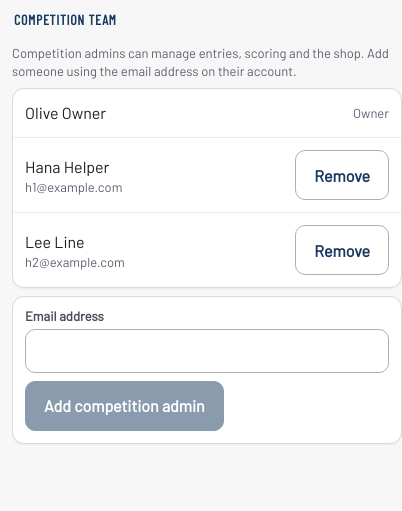
Test case: CompetitionTeamCard › shows the message when no account has that email
This screenshot has width=402, height=511.
Expected: the text "Hana Helper" is shown, x1=25 y1=155 x2=122 y2=179
Type "nobody@example.com" into the field labelled "Email address" at (207, 351), box x1=25 y1=329 x2=389 y2=373
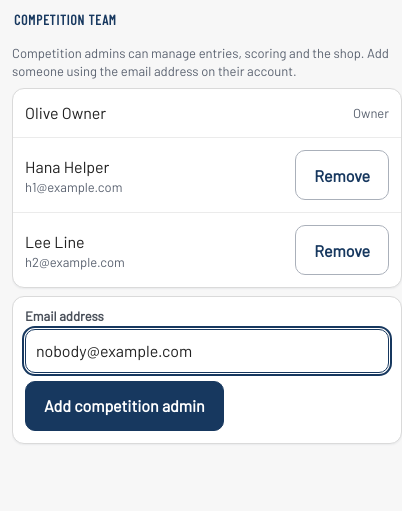
Click the button "Add competition admin" at (124, 406), box x1=25 y1=381 x2=224 y2=431
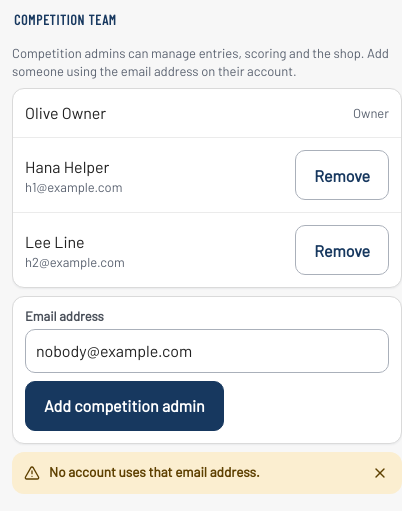
Expected: the number of list items is 3, x1=25 y1=104 x2=389 y2=122; x1=13 y1=138 x2=401 y2=212; x1=13 y1=212 x2=401 y2=288
Result: the message reads "No account uses that email address." at x1=49 y1=463 x2=260 y2=480
